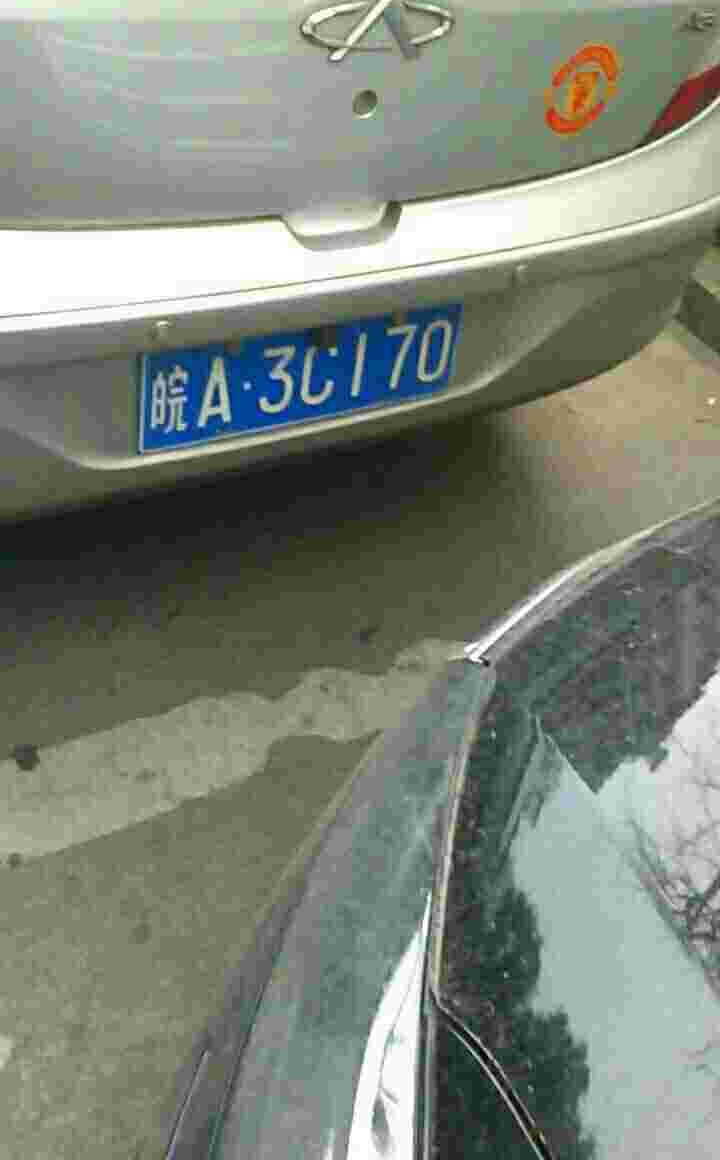license_plate: (136, 306, 462, 460)
